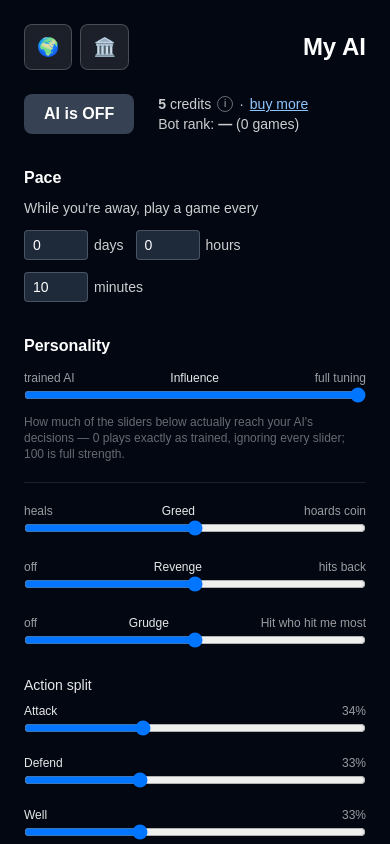
Test: MyAiPage › toggles the AI on and shows the queue reason
The image size is (390, 844).
Click the button "AI is OFF".
click(79, 114)  # box [24,94,134,134]
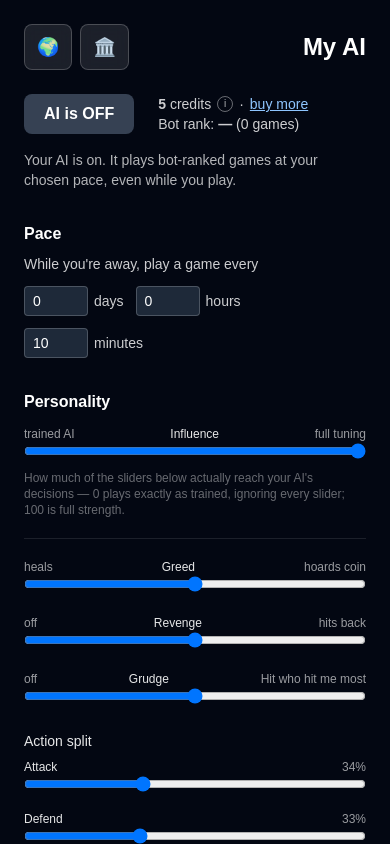
Expected: the text "plays bot-ranked games at your chosen pace, even while you play" is shown, [24,152,318,188]
